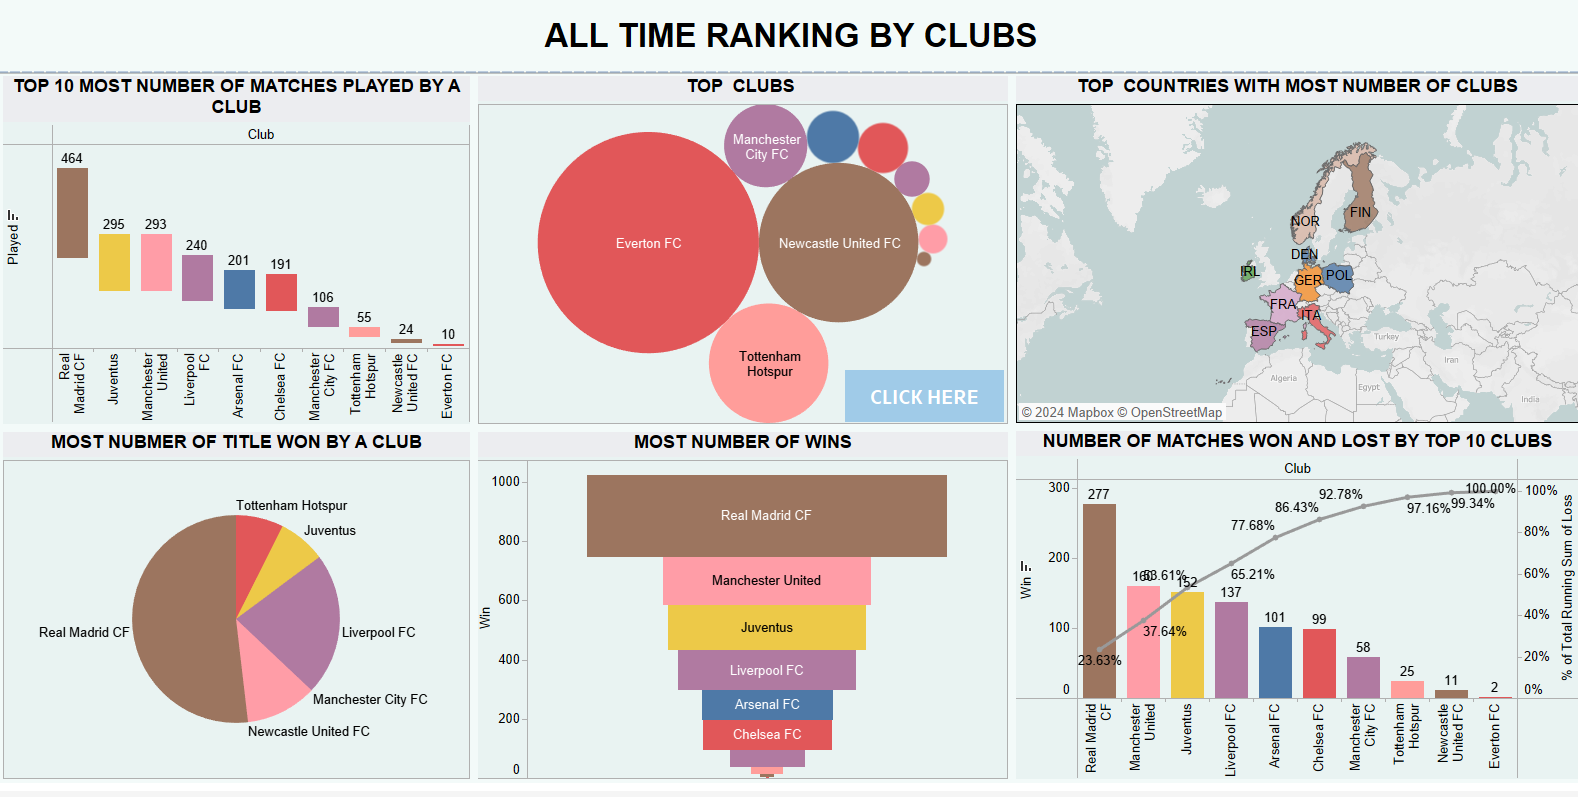

The page's visual inventory and layout, read from the dashboard file:
{"tool":"tableau","page":{"name":"Dashboard 1","canvas":[1600,800],"ordinal":0},"visuals":[{"type":"text","box":[8,8,1584,73]},{"type":"worksheet","title":"WATERFALL","mark":"GanttBar","rows":["Played"],"cols":["Club"],"box":[8,81,474.9,356]},{"type":"worksheet","title":"PACKED BUBBLE","mark":"Circle","box":[482.9,81,538,356]},{"type":"worksheet","title":"MAP","mark":"Multipolygon","box":[1021,81,571,355.5]},{"type":"dashboard-object","box":[854.3,378.8,159,52]},{"type":"worksheet","title":"PARETO","mark":"Automatic","rows":["Win","Win"],"cols":["Club"],"box":[1021,436.4,571,355.6]},{"type":"worksheet","title":"PIE","mark":"Pie","box":[8,437,475,355]},{"type":"worksheet","title":"FUNNEL","mark":"Automatic","rows":["Win"],"box":[483,437,538,355]}]}

Visuals, with their boxes in screenshot pixels (x1, y1, x2, y2), scaled from the page's 1600x800 canvas onto the 1578x797 screenshot:
text: (8, 8, 1570, 81)
"WATERFALL" worksheet (GanttBar marks): (8, 81, 476, 435)
"PACKED BUBBLE" worksheet (Circle marks): (476, 81, 1007, 435)
"MAP" worksheet (Multipolygon marks): (1007, 81, 1570, 435)
dashboard-object: (843, 377, 999, 429)
"PARETO" worksheet: (1007, 435, 1570, 789)
"PIE" worksheet (Pie marks): (8, 435, 476, 789)
"FUNNEL" worksheet: (476, 435, 1007, 789)
